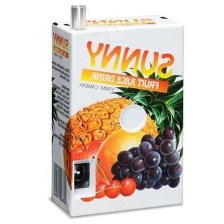carton: (42, 15, 192, 221)
